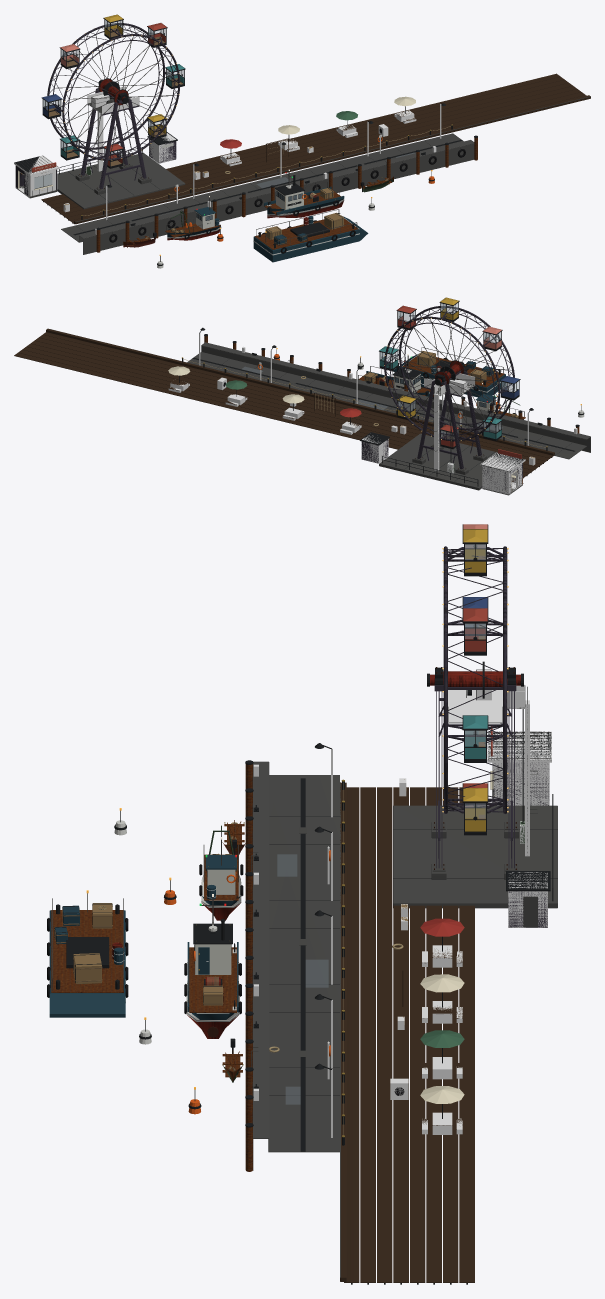
Rendered from ferris-harbor.glb.
3 views of the same model, one above another, from view 1: azimuth 30°, elevation 25°; view 2: azimuth 150°, elevation 25°; view 3: azimuth 270°, elevation 25° (orthographic). The views are drawn at different scales.
Parts seen in each view (by area): view 1: MESH_FERRIS_HARBOR_DECK_TIMBER_LOD0, MESH_FERRIS_HARBOR_BASE_CONCRETE_SEAWALL_LOD0, MESH_FERRIS_HARBOR_WHEEL_ROOT_STEEL_NAVY_WEATHERED_LOD0, MESH_FERRIS_HARBOR_PALETTE_LOD0, MESH_FERRIS_HARBOR_STEEL_NAVY_WEATHERED_LOD0, MESH_FERRIS_HARBOR_BOAT_BARGE_HULL_NAVY_LOD0, MESH_FERRIS_HARBOR_WHEEL_ROOT_GALVANIZED_LOD0, MESH_FERRIS_HARBOR_GALVANIZED_LOD0, MESH_FERRIS_HARBOR_BOAT_BARGE_PALETTE_LOD0, MESH_FERRIS_HARBOR_BOAT_BARGE_DECK_TIMBER_LOD0, MESH_FERRIS_HARBOR_BOAT_WORKBOAT_PALETTE_LOD0, MESH_FERRIS_HARBOR_BOAT_WORKBOAT_HULL_NAVY_LOD0 (+9 smaller); view 2: MESH_FERRIS_HARBOR_DECK_TIMBER_LOD0, MESH_FERRIS_HARBOR_BASE_CONCRETE_SEAWALL_LOD0, MESH_FERRIS_HARBOR_WHEEL_ROOT_STEEL_NAVY_WEATHERED_LOD0, MESH_FERRIS_HARBOR_PALETTE_LOD0, MESH_FERRIS_HARBOR_STEEL_NAVY_WEATHERED_LOD0, MESH_FERRIS_HARBOR_WHEEL_ROOT_GALVANIZED_LOD0, MESH_FERRIS_HARBOR_BOAT_BARGE_HULL_NAVY_LOD0, MESH_FERRIS_HARBOR_BOAT_BARGE_PALETTE_LOD0, MESH_FERRIS_HARBOR_GALVANIZED_LOD0, COL_MOVE_FERRIS_HARBOR_TICKET_BACK, COL_MOVE_FERRIS_HARBOR_KIOSK, COL_MOVE_FERRIS_HARBOR_TICKET_ROOF (+11 smaller); view 3: MESH_FERRIS_HARBOR_DECK_TIMBER_LOD0, MESH_FERRIS_HARBOR_BASE_CONCRETE_SEAWALL_LOD0, MESH_FERRIS_HARBOR_PALETTE_LOD0, MESH_FERRIS_HARBOR_WHEEL_ROOT_STEEL_NAVY_WEATHERED_LOD0, MESH_FERRIS_HARBOR_STEEL_NAVY_WEATHERED_LOD0, MESH_FERRIS_HARBOR_BOAT_BARGE_DECK_TIMBER_LOD0, MESH_FERRIS_HARBOR_BOAT_BARGE_HULL_NAVY_LOD0, MESH_FERRIS_HARBOR_BOAT_BARGE_PALETTE_LOD0, MESH_FERRIS_HARBOR_GALVANIZED_LOD0, MESH_FERRIS_HARBOR_BOAT_WORKBOAT_PALETTE_LOD0, COL_MOVE_FERRIS_HARBOR_TICKET_EAST, MESH_FERRIS_HARBOR_BOAT_WORKBOAT_DECK_TIMBER_LOD0 (+8 smaller).
Boxes of the visible parts, <box> form: MESH_FERRIS_HARBOR_DECK_TIMBER_LOD0: <box>20,73,590,224</box>; MESH_FERRIS_HARBOR_BASE_CONCRETE_SEAWALL_LOD0: <box>15,133,474,254</box>; MESH_FERRIS_HARBOR_WHEEL_ROOT_STEEL_NAVY_WEATHERED_LOD0: <box>47,23,180,160</box>; MESH_FERRIS_HARBOR_PALETTE_LOD0: <box>14,79,462,235</box>; MESH_FERRIS_HARBOR_STEEL_NAVY_WEATHERED_LOD0: <box>15,86,176,195</box>; MESH_FERRIS_HARBOR_BOAT_BARGE_HULL_NAVY_LOD0: <box>253,216,368,262</box>; MESH_FERRIS_HARBOR_WHEEL_ROOT_GALVANIZED_LOD0: <box>55,33,172,153</box>; MESH_FERRIS_HARBOR_GALVANIZED_LOD0: <box>15,87,590,226</box>; MESH_FERRIS_HARBOR_BOAT_BARGE_PALETTE_LOD0: <box>253,212,359,255</box>; MESH_FERRIS_HARBOR_BOAT_BARGE_DECK_TIMBER_LOD0: <box>255,218,358,249</box>; MESH_FERRIS_HARBOR_BOAT_WORKBOAT_PALETTE_LOD0: <box>267,175,344,216</box>; MESH_FERRIS_HARBOR_BOAT_WORKBOAT_HULL_NAVY_LOD0: <box>264,186,344,214</box>; MESH_FERRIS_HARBOR_DECK_TIMBER_LOD0: <box>14,328,554,484</box>; MESH_FERRIS_HARBOR_BASE_CONCRETE_SEAWALL_LOD0: <box>187,342,590,495</box>; MESH_FERRIS_HARBOR_WHEEL_ROOT_STEEL_NAVY_WEATHERED_LOD0: <box>384,306,514,441</box>; MESH_FERRIS_HARBOR_PALETTE_LOD0: <box>168,327,574,492</box>; MESH_FERRIS_HARBOR_STEEL_NAVY_WEATHERED_LOD0: <box>361,369,522,493</box>; MESH_FERRIS_HARBOR_WHEEL_ROOT_GALVANIZED_LOD0: <box>391,316,507,434</box>; MESH_FERRIS_HARBOR_BOAT_BARGE_HULL_NAVY_LOD0: <box>393,353,505,397</box>; MESH_FERRIS_HARBOR_BOAT_BARGE_PALETTE_LOD0: <box>406,351,501,392</box>; MESH_FERRIS_HARBOR_GALVANIZED_LOD0: <box>48,328,554,483</box>; COL_MOVE_FERRIS_HARBOR_TICKET_BACK: <box>482,466,509,493</box>; COL_MOVE_FERRIS_HARBOR_KIOSK: <box>361,435,388,463</box>; COL_MOVE_FERRIS_HARBOR_TICKET_ROOF: <box>480,452,525,472</box>; MESH_FERRIS_HARBOR_DECK_TIMBER_LOD0: <box>340,782,494,1282</box>; MESH_FERRIS_HARBOR_BASE_CONCRETE_SEAWALL_LOD0: <box>252,761,557,1170</box>; MESH_FERRIS_HARBOR_PALETTE_LOD0: <box>255,667,557,1284</box>; MESH_FERRIS_HARBOR_WHEEL_ROOT_STEEL_NAVY_WEATHERED_LOD0: <box>443,546,507,813</box>; MESH_FERRIS_HARBOR_STEEL_NAVY_WEATHERED_LOD0: <box>434,683,548,927</box>; MESH_FERRIS_HARBOR_BOAT_BARGE_DECK_TIMBER_LOD0: <box>51,910,123,992</box>; MESH_FERRIS_HARBOR_BOAT_BARGE_HULL_NAVY_LOD0: <box>49,905,125,1017</box>; MESH_FERRIS_HARBOR_BOAT_BARGE_PALETTE_LOD0: <box>47,903,128,1002</box>; MESH_FERRIS_HARBOR_GALVANIZED_LOD0: <box>251,669,551,1277</box>; MESH_FERRIS_HARBOR_BOAT_WORKBOAT_PALETTE_LOD0: <box>184,919,241,1021</box>; COL_MOVE_FERRIS_HARBOR_TICKET_EAST: <box>493,762,549,805</box>; MESH_FERRIS_HARBOR_BOAT_WORKBOAT_DECK_TIMBER_LOD0: <box>189,947,236,1012</box>.
Size of what is drawn, in the model's own units: 73 by 23.54 by 30.96.
Materials: 22 (16 with a texture image).
